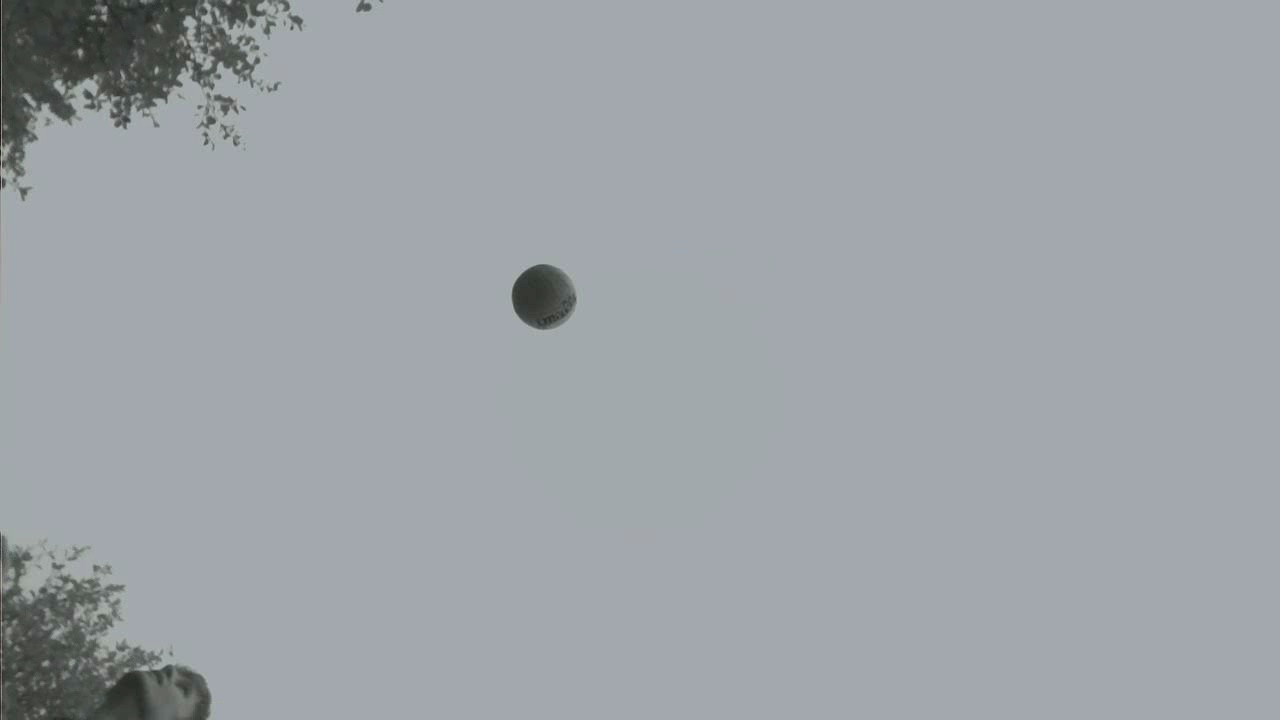Football-Spotter: (512, 264, 576, 329)
